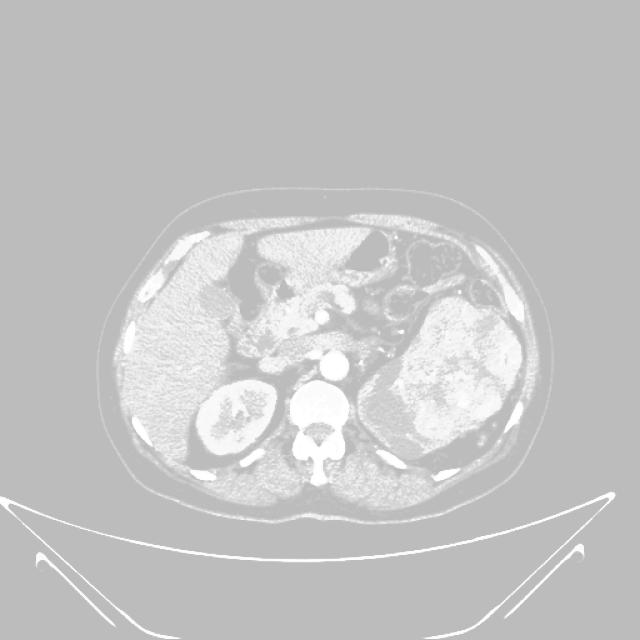TUMOR: (170, 365, 532, 481)
